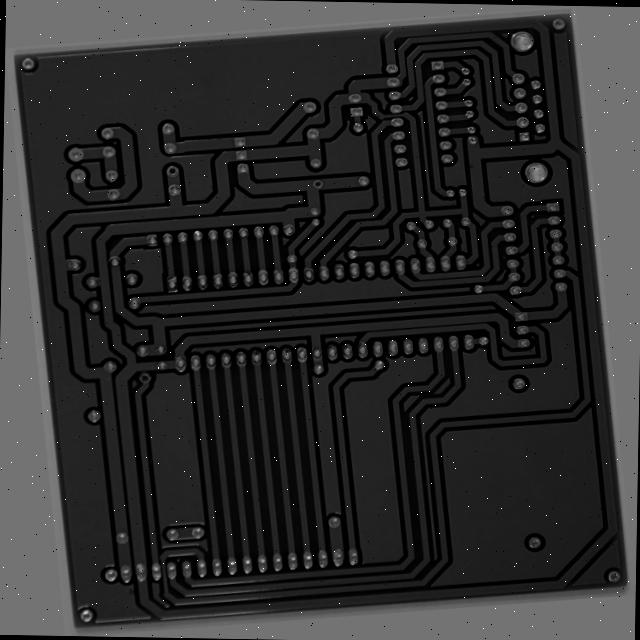missing_hole: (165, 136, 184, 152), (109, 356, 126, 371), (326, 165, 344, 178)
